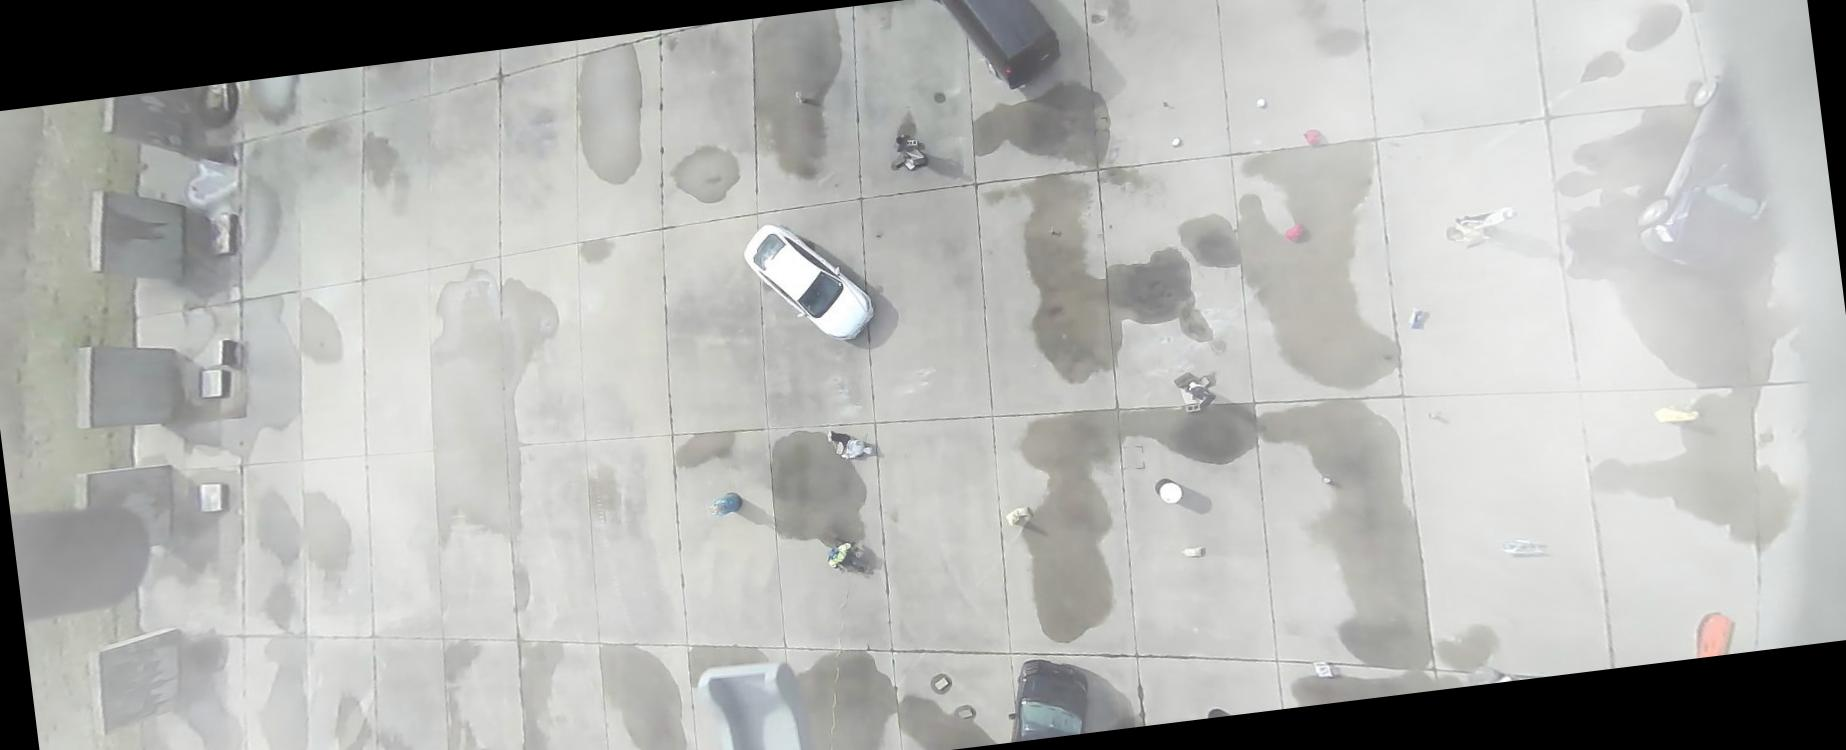vehicle: (1618, 49, 1782, 274), (739, 212, 877, 352), (931, 0, 1065, 98), (1001, 652, 1095, 741)
